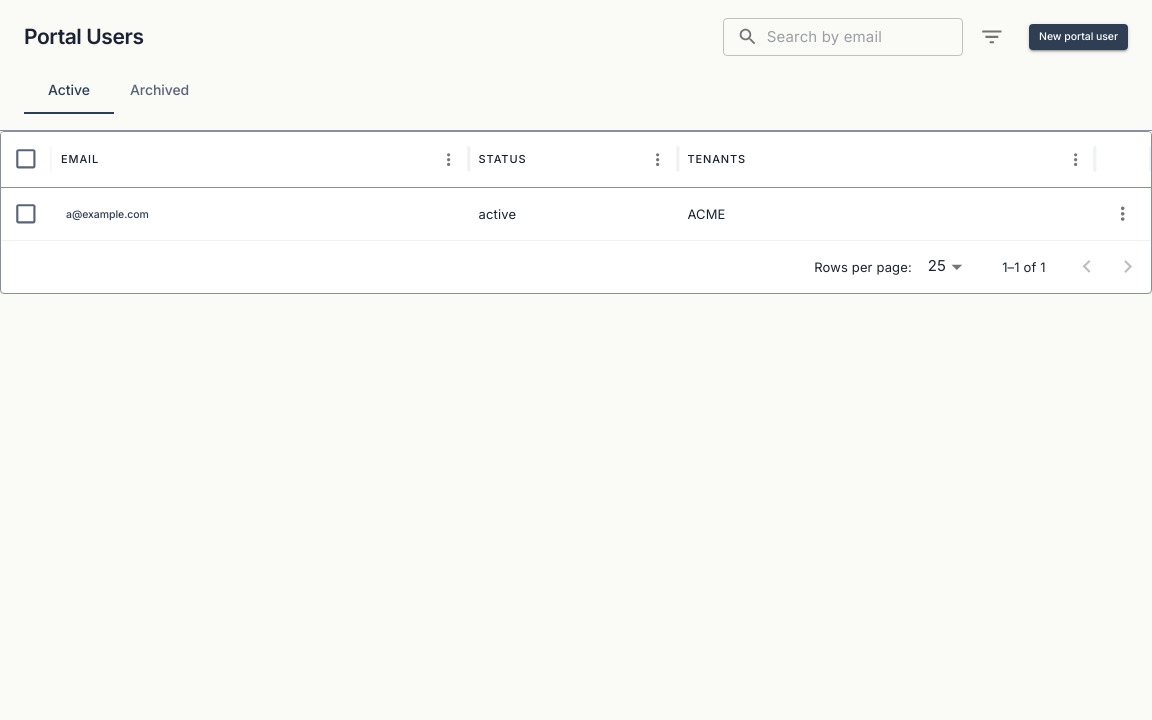
Test case: PortalUsersPage › lists deactivated users only in the Archived tab, untagged (I0011-R001, R004)
The image size is (1152, 720).
Expected: the button "a@example.com" is shown, [61,202,154,228]
Expected: the text "b@example.com" is not shown
Click the button named "Filters": x=992, y=37 [971,16,1013,58]
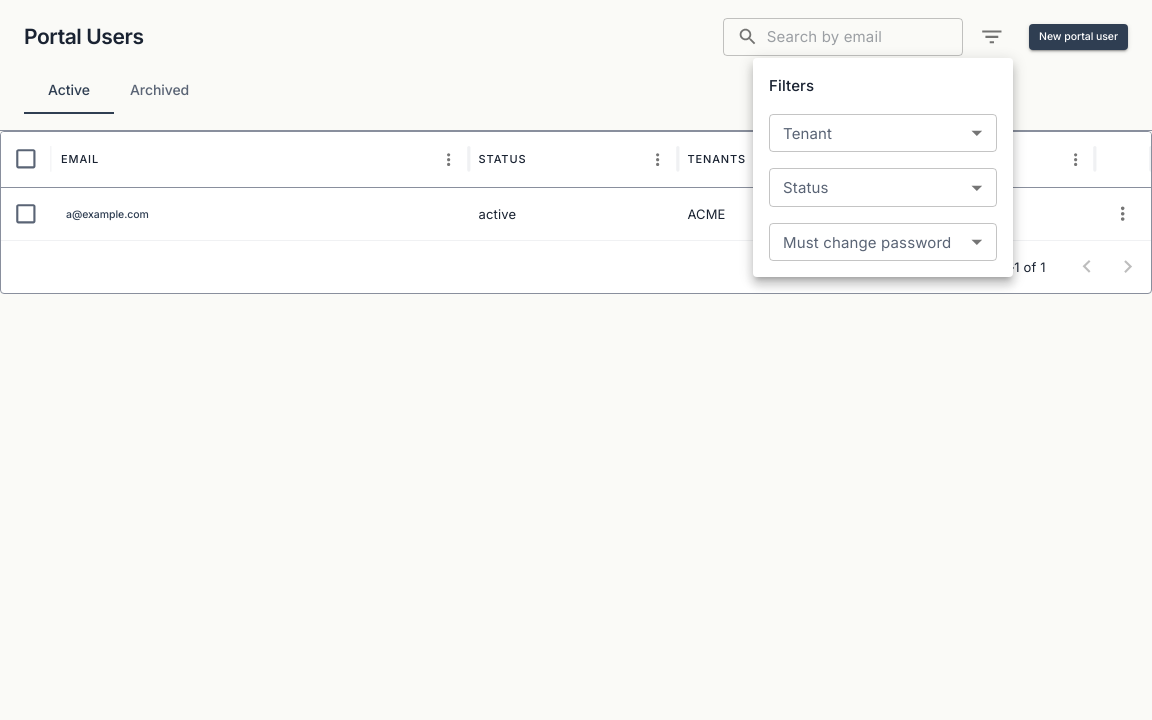
Press Escape
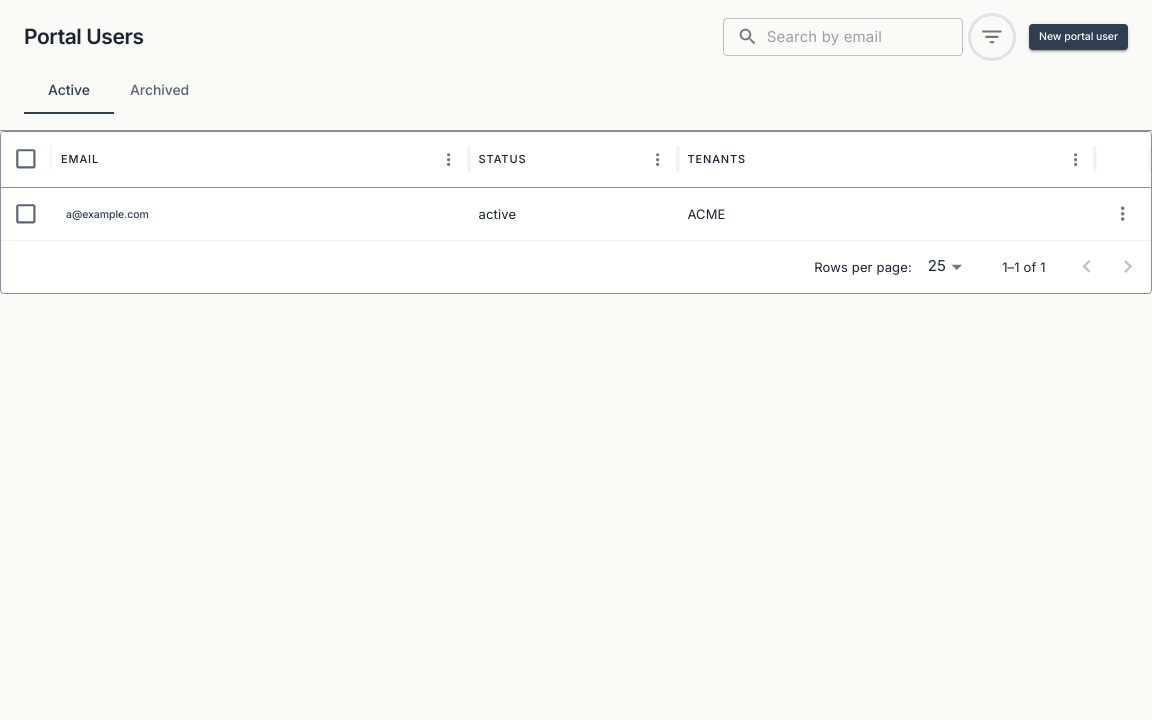
Click the tab "Archived": x=160, y=90 [114,66,205,114]
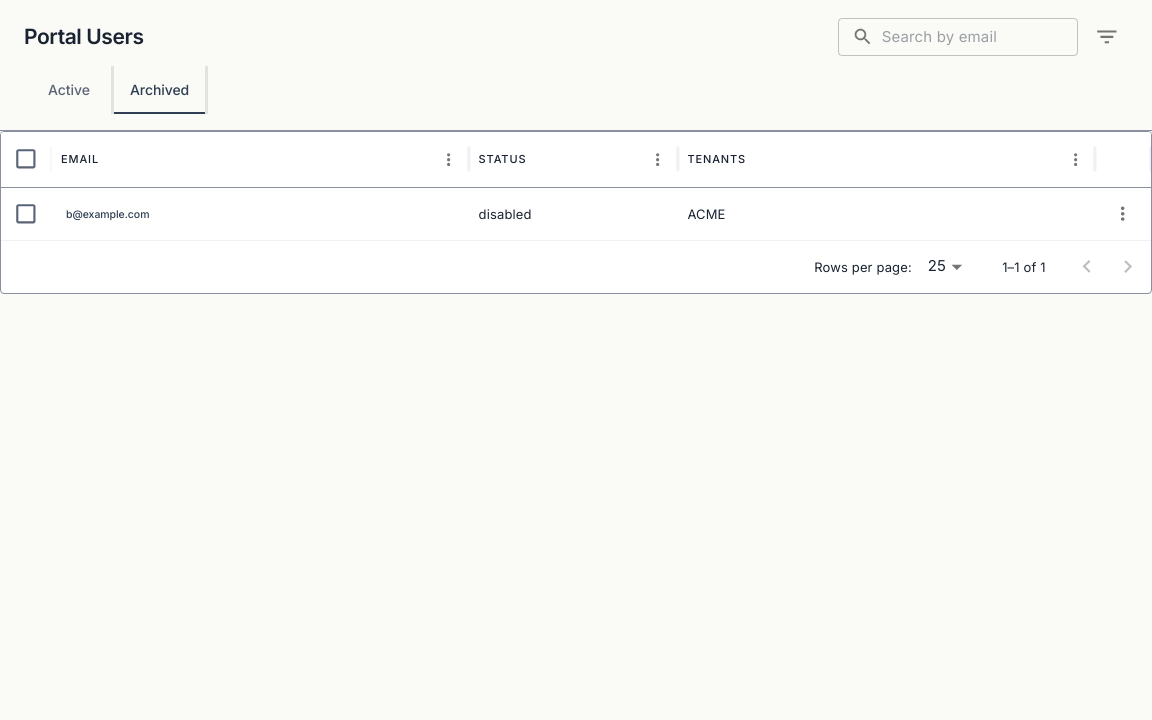
Result: the button "a@example.com" is gone
